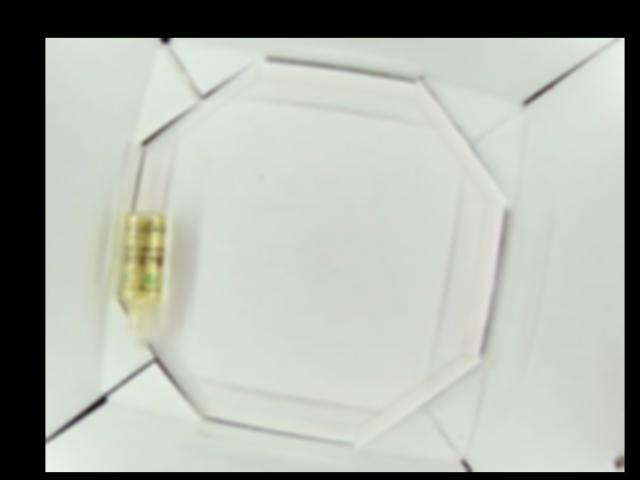Bottle: (116, 211, 171, 343)
